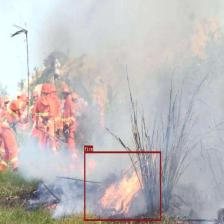fire: (84, 151, 161, 220)
